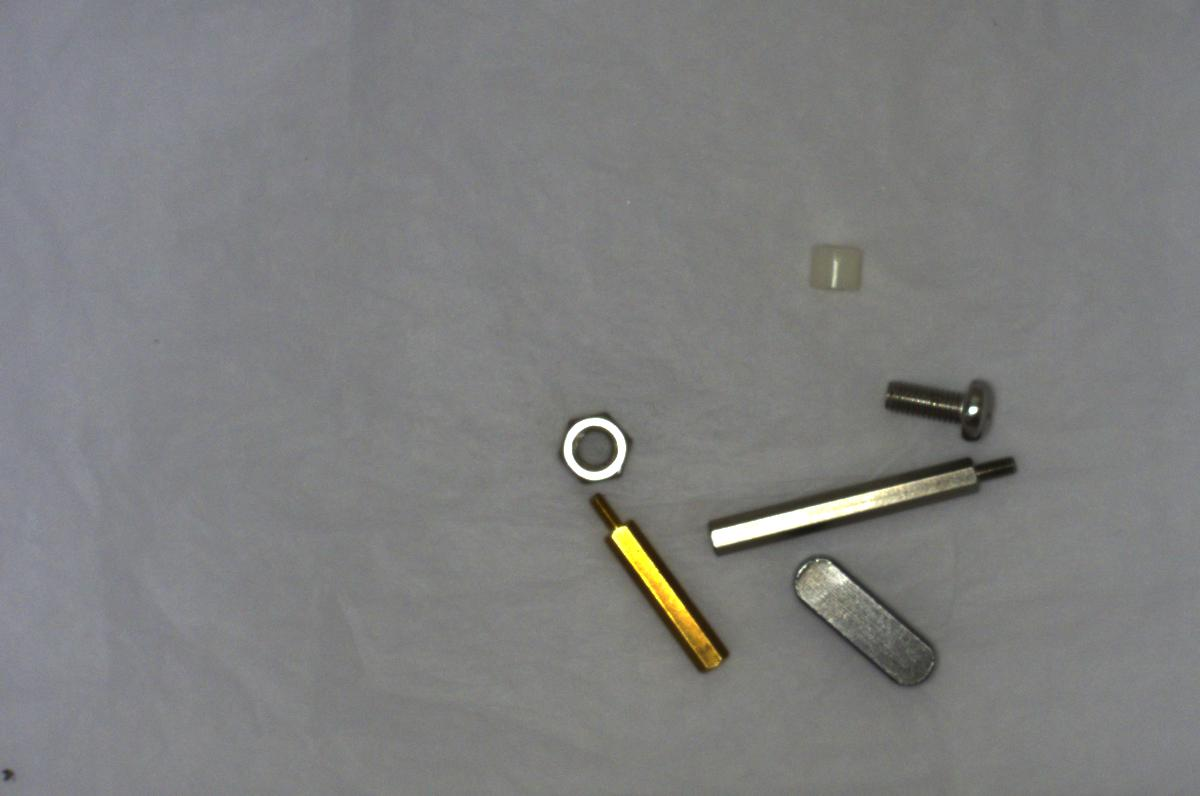Hexagon nut: (553, 403, 637, 489)
Hexagon pillar: (582, 483, 726, 680)
Hexagonal steel column: (706, 444, 1021, 558)
Keybar: (785, 544, 944, 691)
Plastic cushion pillar: (794, 237, 866, 300)
Round head screw: (878, 362, 997, 450)
